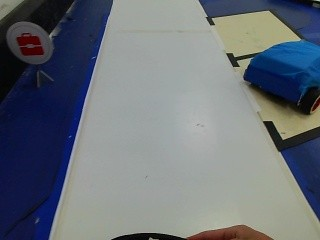car: (235, 39, 318, 119)
company: (4, 22, 51, 67)
